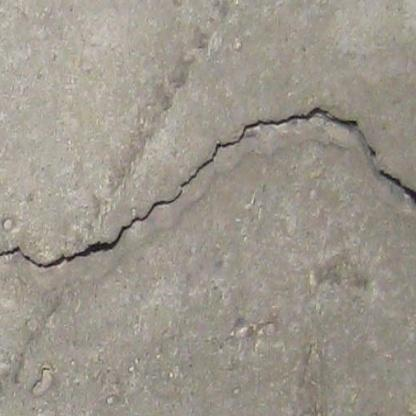Cracks: (0, 104, 381, 274), (377, 167, 416, 211)
